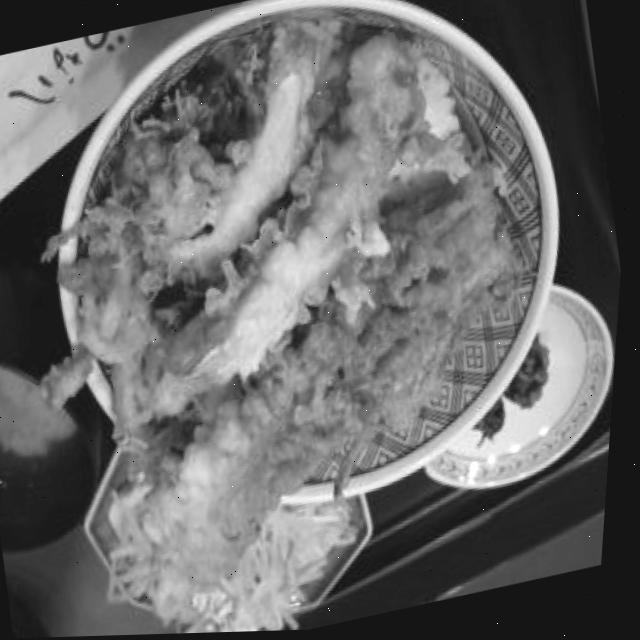熟制海鲜: (0, 0, 631, 586)
